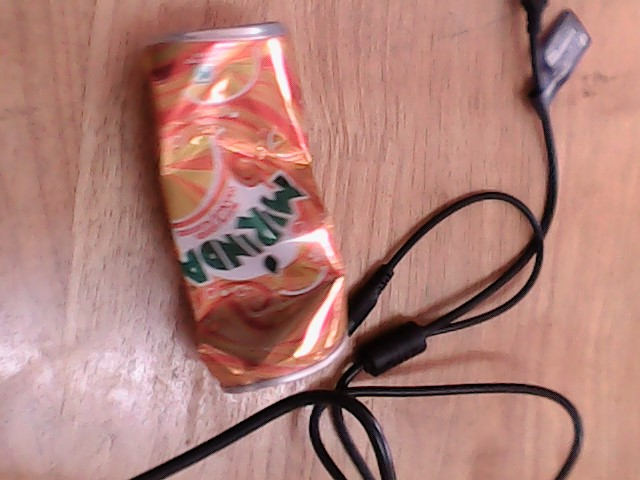Metal: (133, 47, 383, 384)
